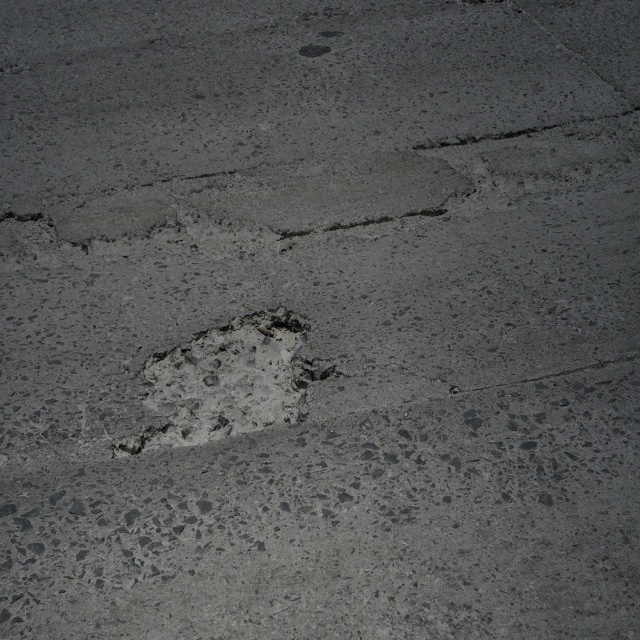pothole: (128, 298, 317, 460), (415, 130, 520, 224), (172, 197, 285, 257), (3, 206, 89, 273), (482, 120, 569, 154)
